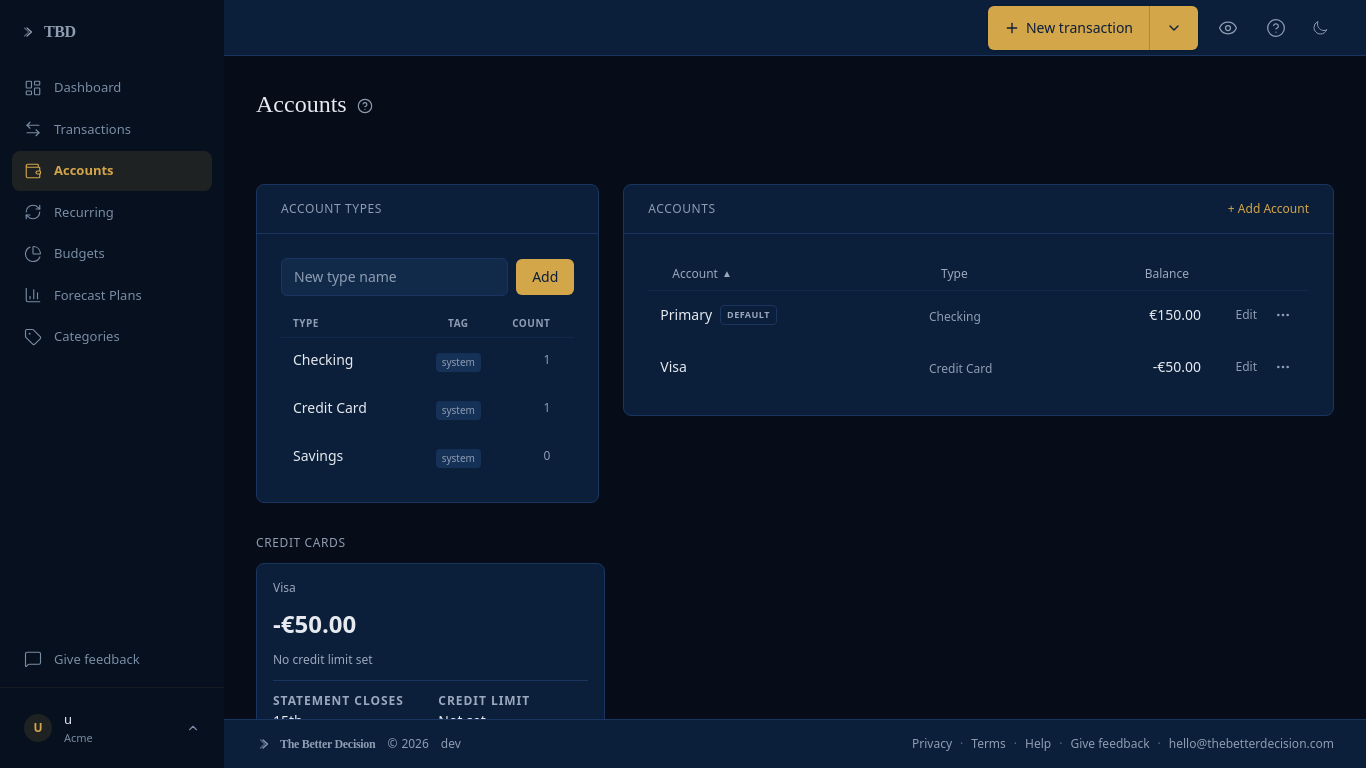
it: Edit Account Type — inline edit row › clicking Cancel in the dialog leaves the row in edit mode and sends no request
Click the button "Edit" next to "€150.00" at (1246, 315), box left=1236, top=307, right=1257, bottom=323
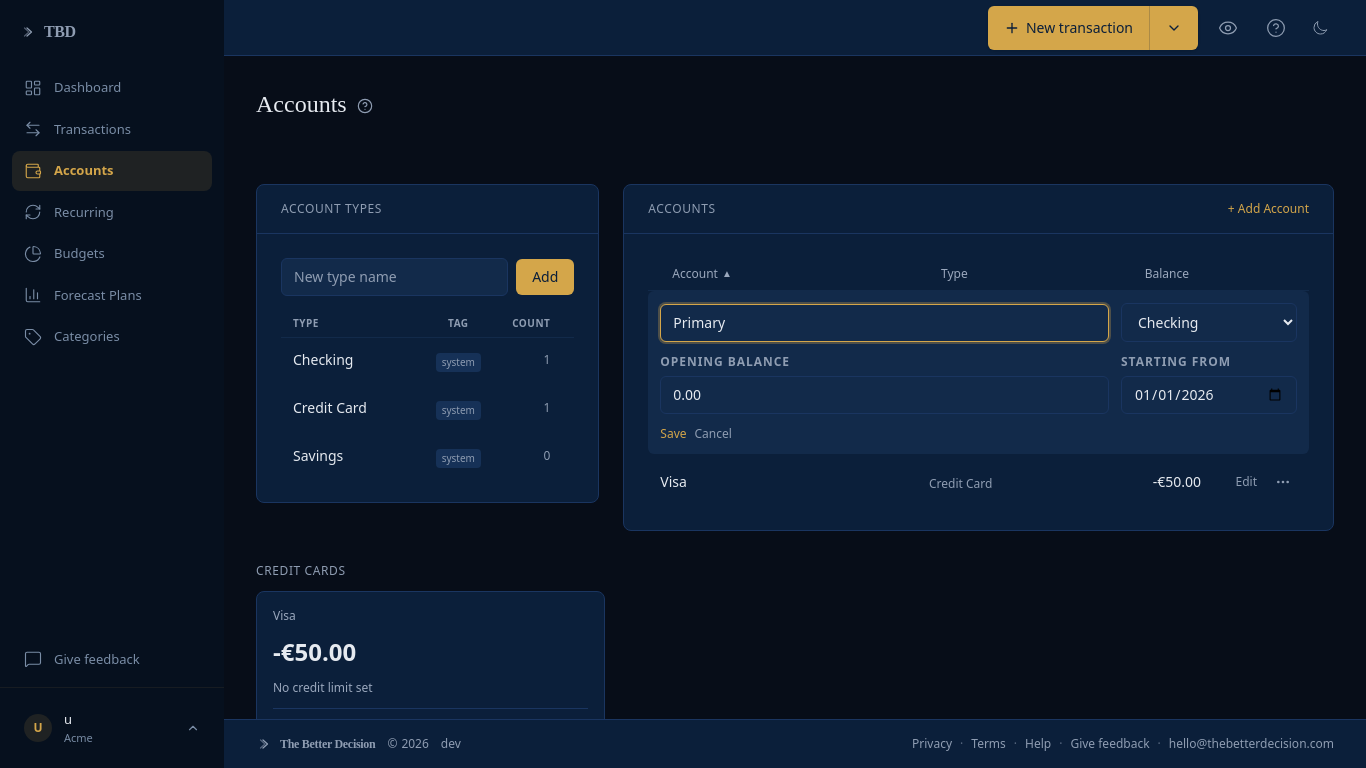
Select "Credit Card" in the dropdown named "Account type" at (1209, 322), box left=1121, top=303, right=1297, bottom=342
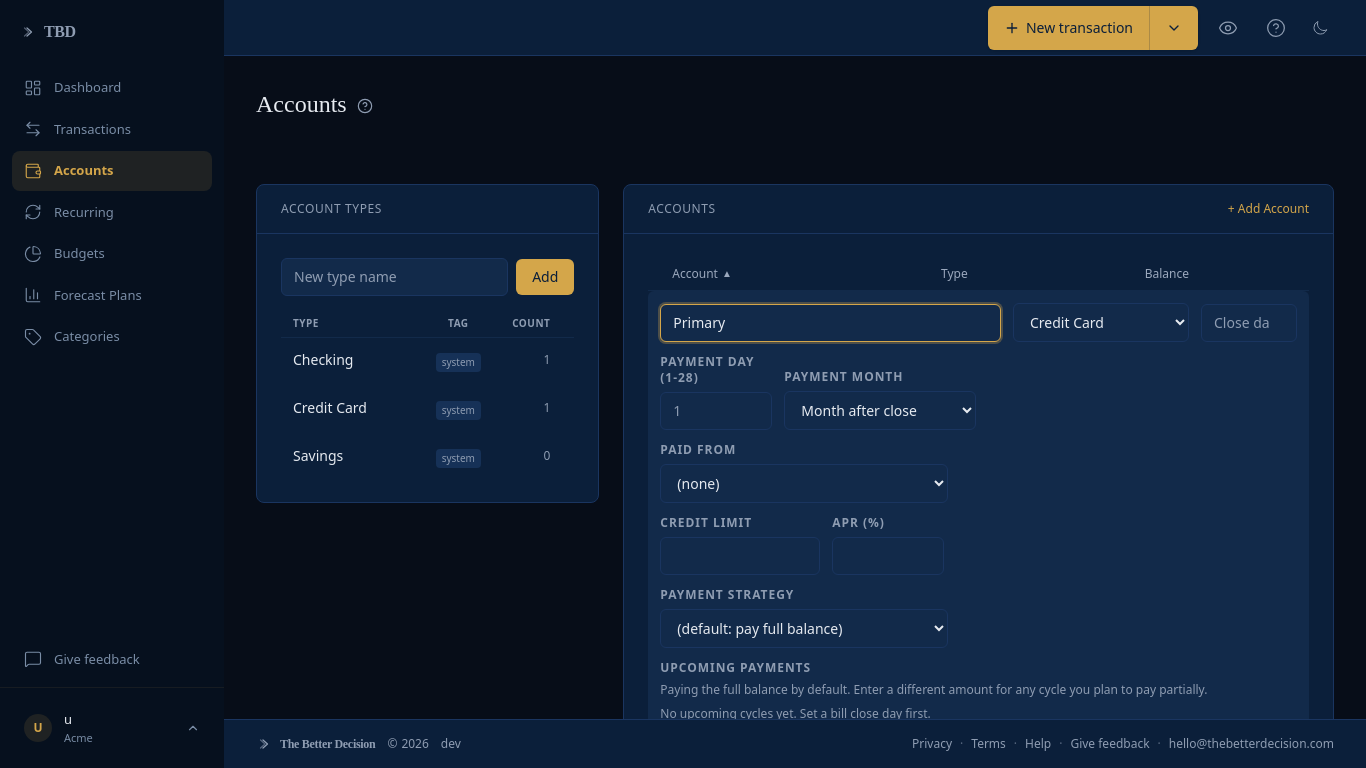
Type "15" into the number field labelled "Close day" at (1249, 322), box left=1201, top=304, right=1297, bottom=342
(page scrolled)
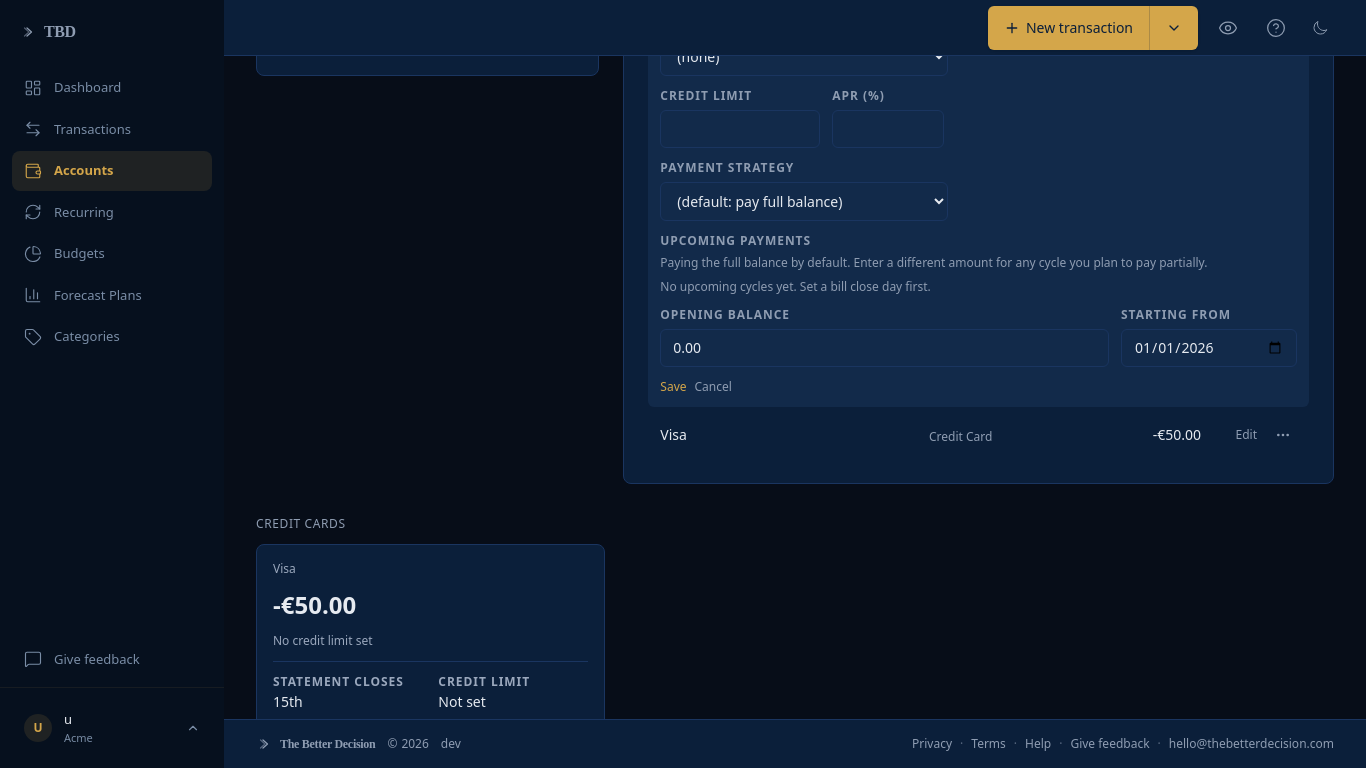
Click the button "Save" at (673, 387), box left=660, top=379, right=686, bottom=395
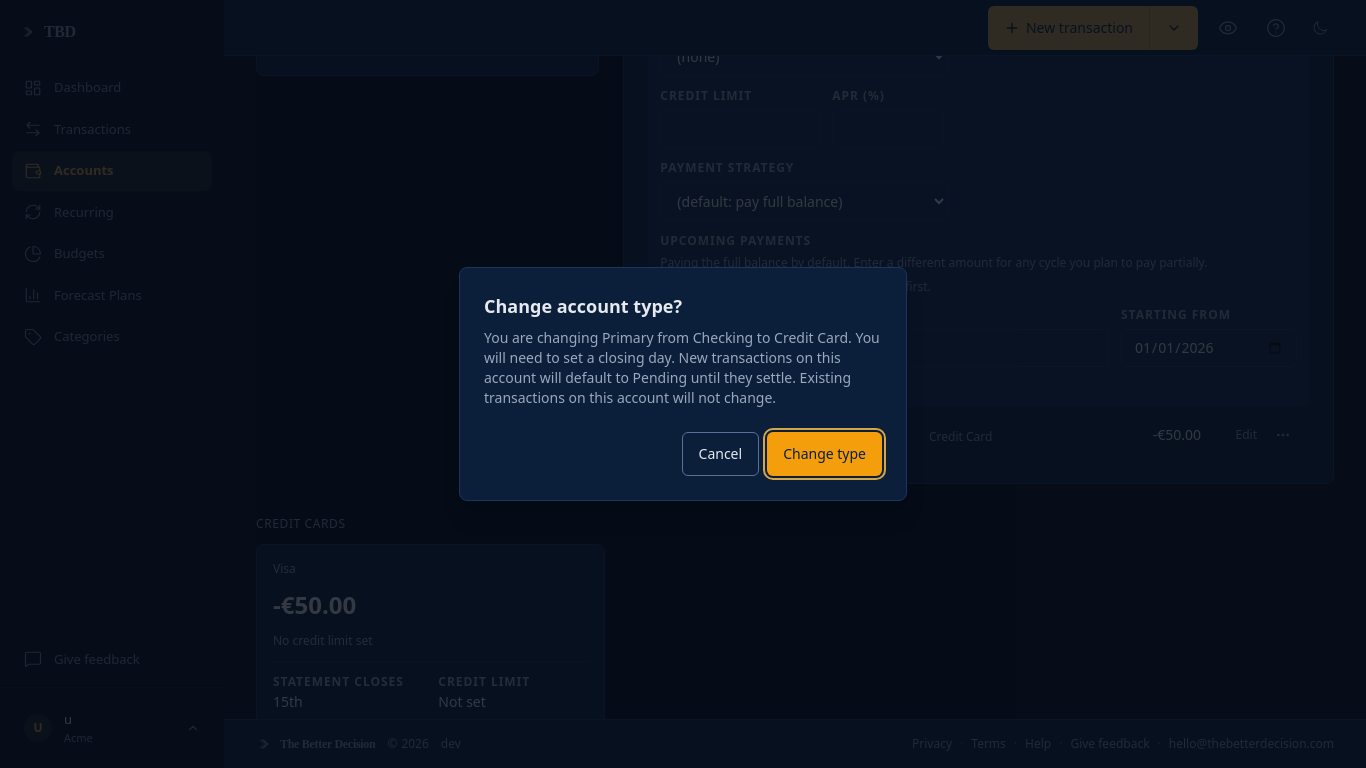
Click the button "Cancel" at (720, 454), box left=682, top=432, right=759, bottom=476
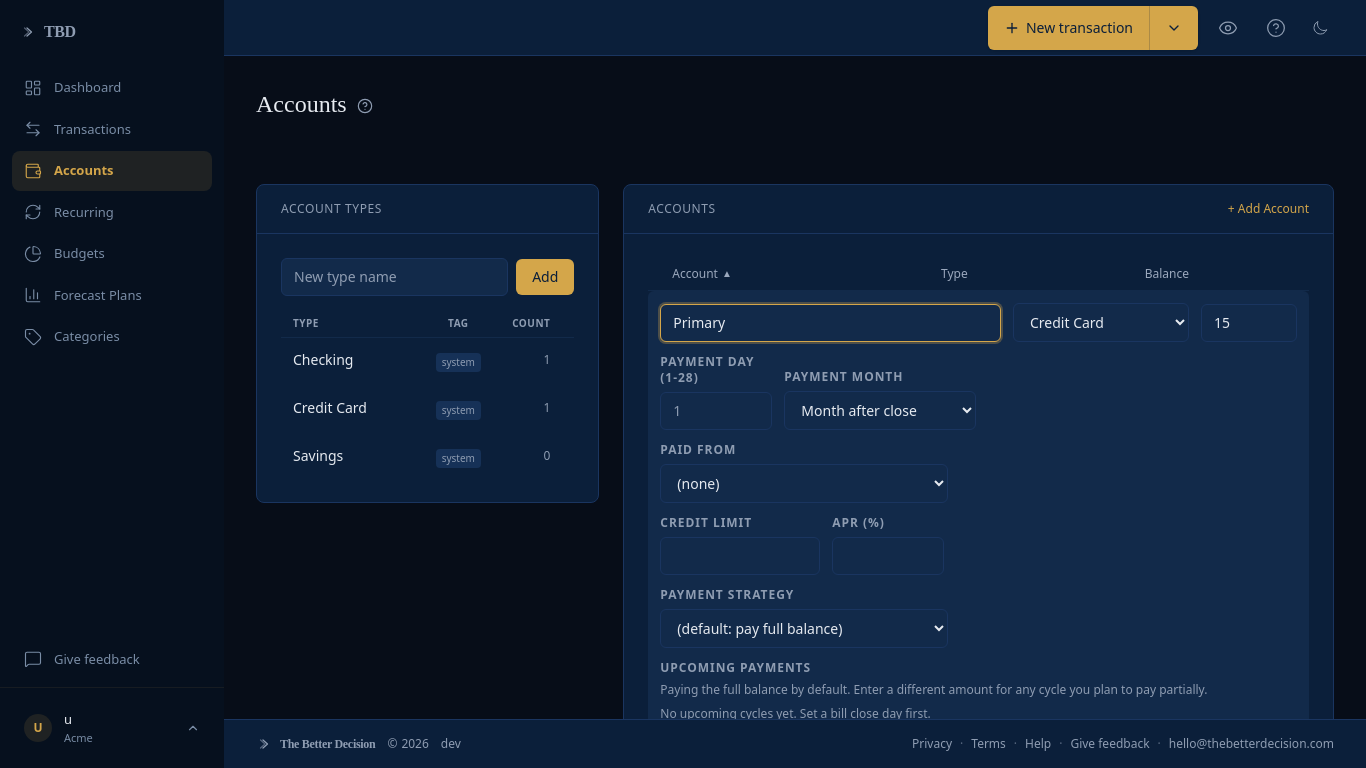
Check: the heading "Change account type?" is gone
